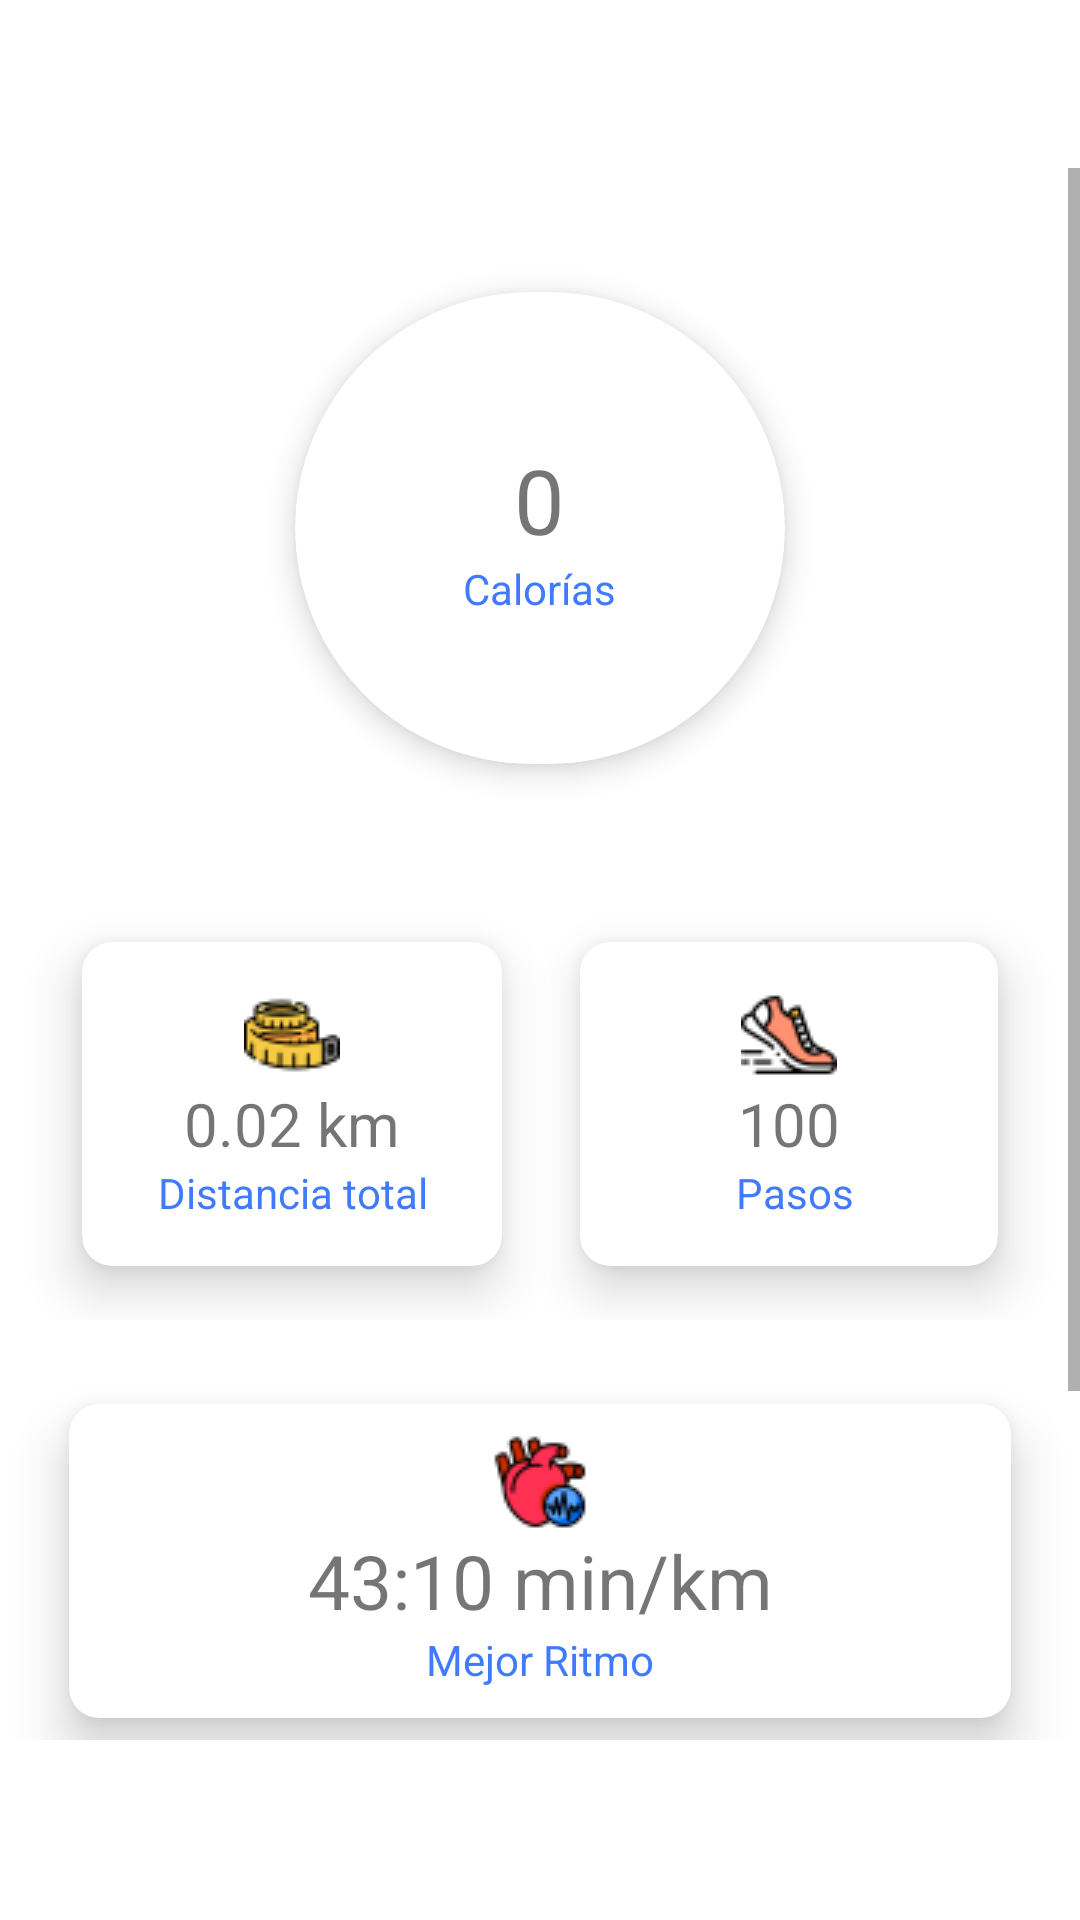

Screen size 1080px×1920px. Icon name, then its box in pixels as (x1, y1, x2, y2):
metro: (244, 998, 340, 1072)
